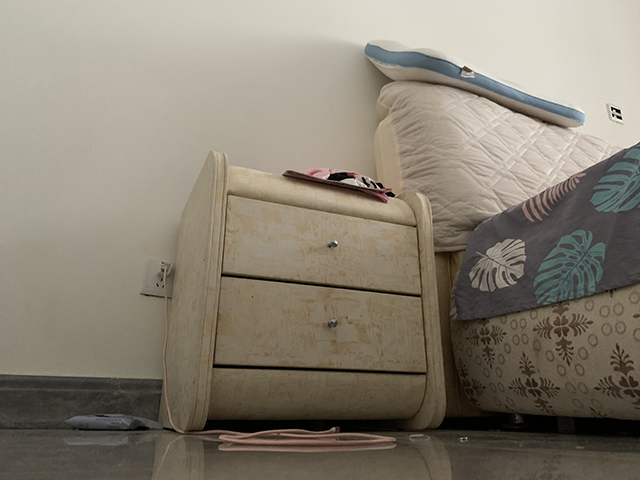bed: (363, 37, 640, 430)
cabinet: (156, 149, 448, 434)
wire: (155, 260, 398, 447)
